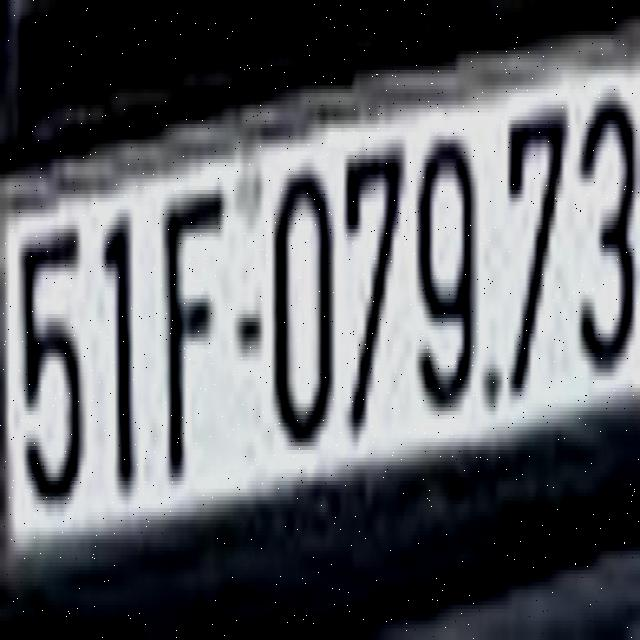0: (270, 147, 335, 458)
1: (101, 194, 139, 496)
3: (577, 76, 636, 382)
5: (20, 211, 84, 514)
7: (342, 122, 404, 440), (504, 84, 566, 398)
9: (415, 118, 477, 429)
F: (161, 175, 225, 481)
